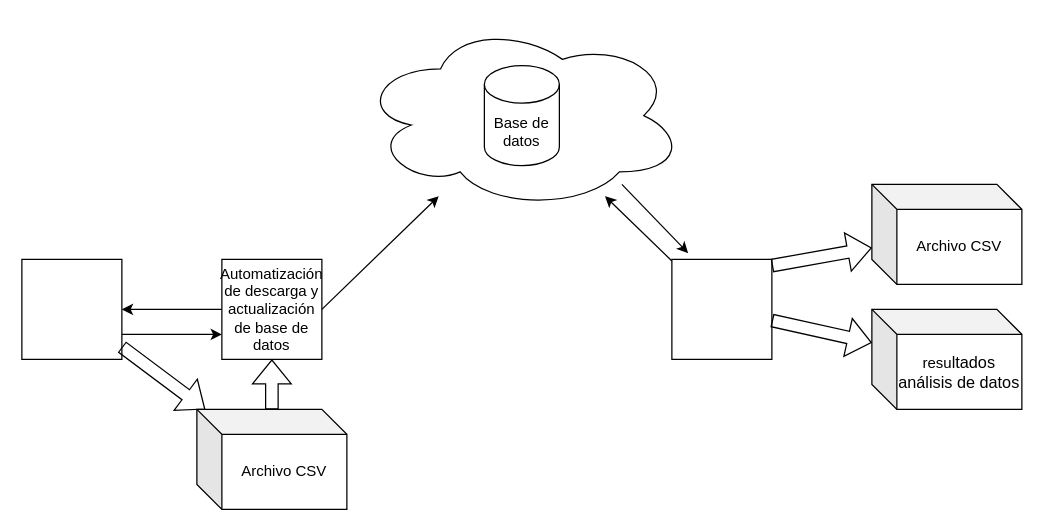
Some shapes in this 1044 by 531 pixel diagram are drawn without their labels. Each missing label, with the box of its shape:
Sistema de Encuestas: (21, 258, 122, 359)
Sistema Descarga de encuesta y consumo de información: (671, 258, 772, 359)
